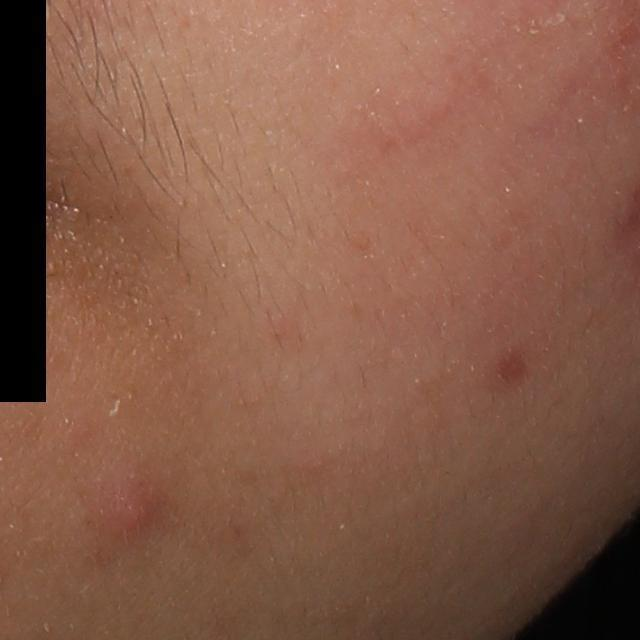papule: (98, 483, 158, 533)
